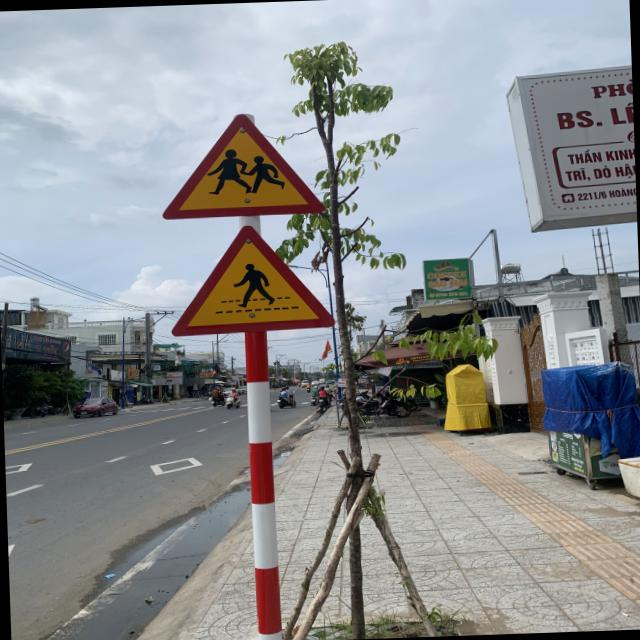Duong_Nguoi_Di_Bo_Sang_Ngang: (168, 222, 336, 334)
Vong_Xuyen: (160, 112, 324, 220)
